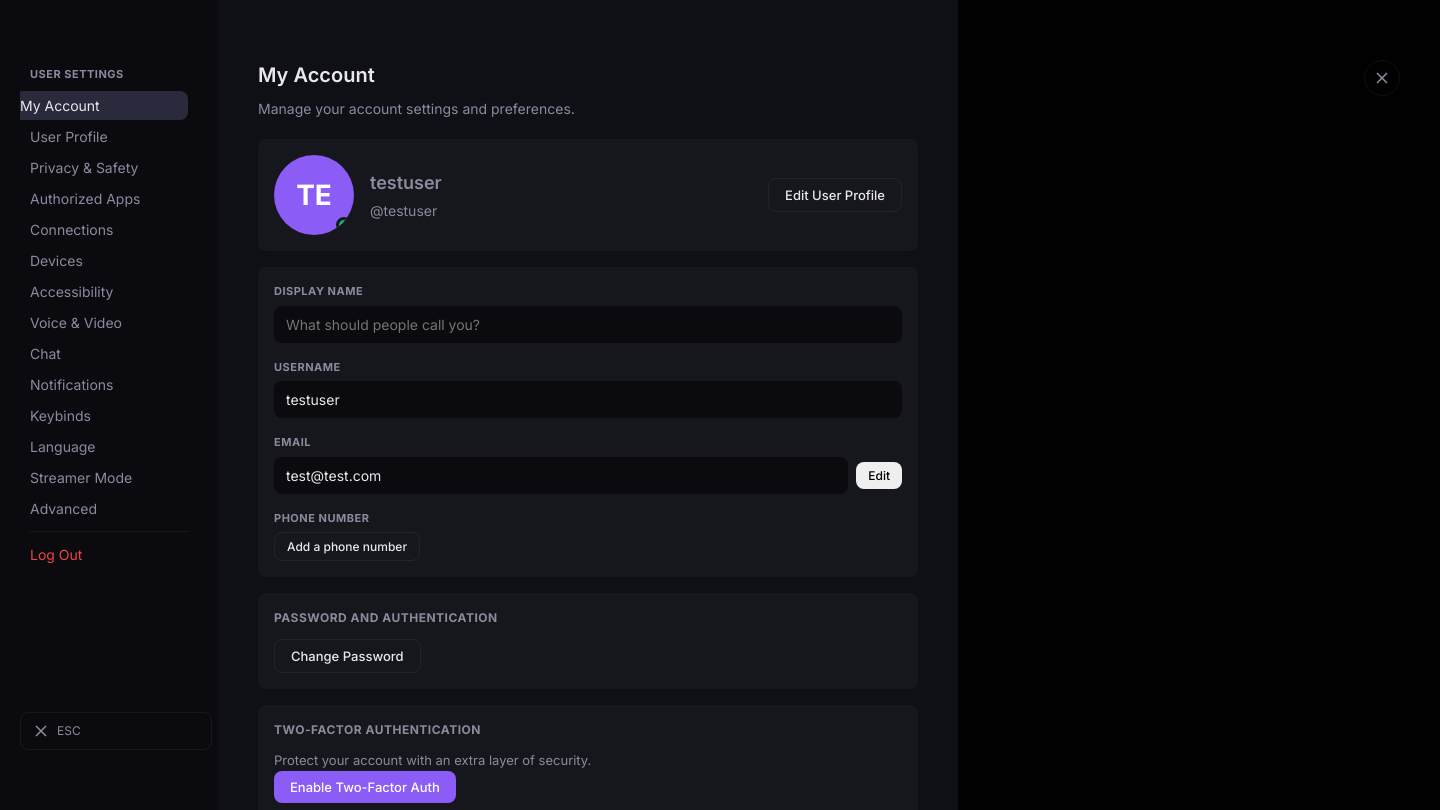
Test case: Settings › switches section when clicking sidebar item
The width and height of the screenshot is (1440, 810).
Click the button "Accessibility" at (109, 291), box [20,276,198,306]
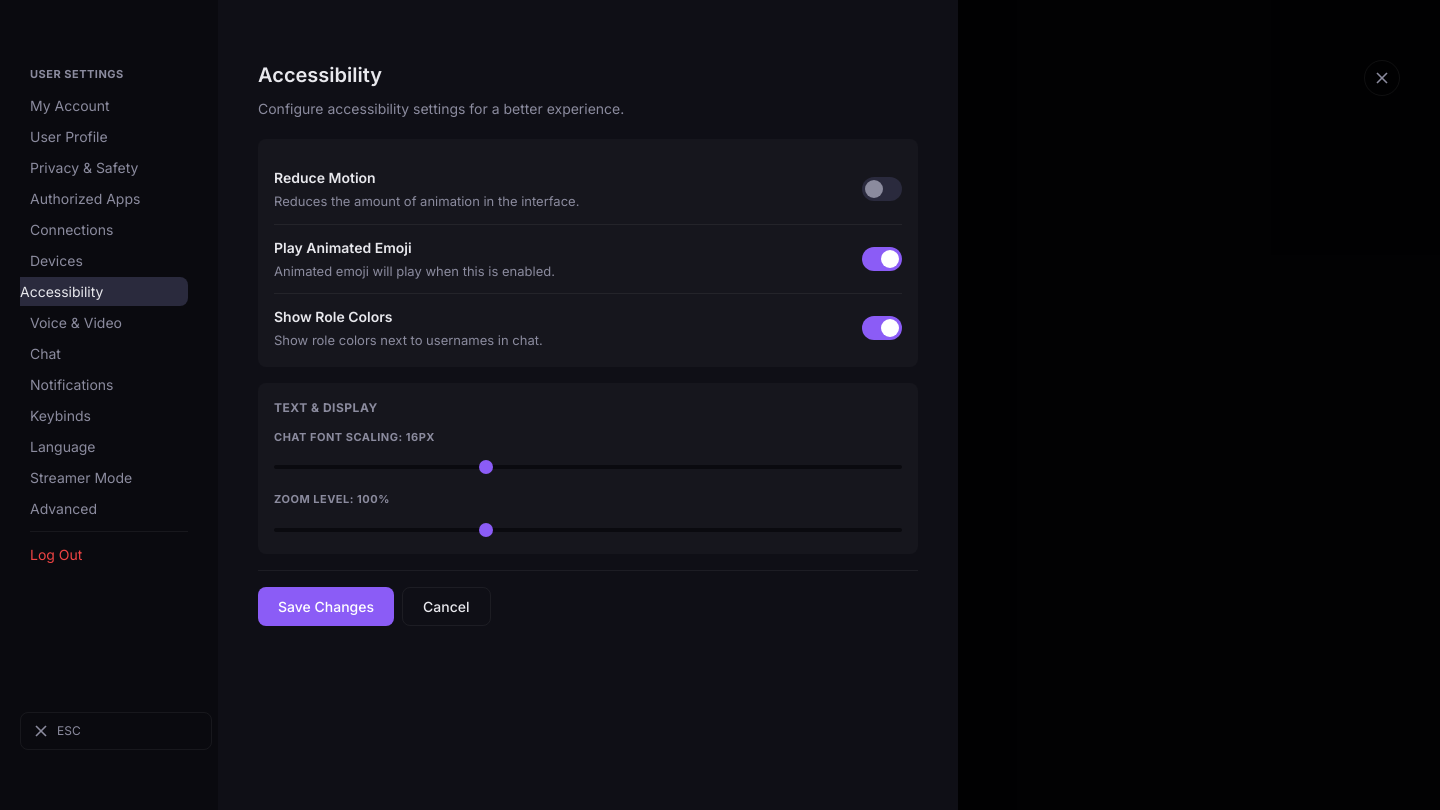
Expected: the heading "Reduce Motion" is shown, [274,169,376,186]
